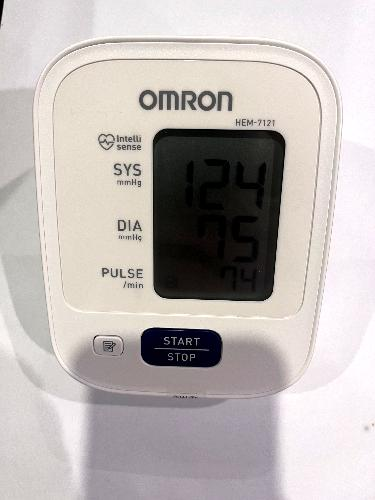bpm: (151, 125, 286, 304)
